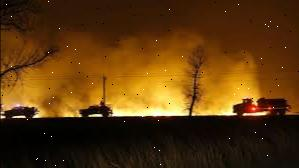fire: (111, 101, 233, 121), (31, 104, 82, 119)
